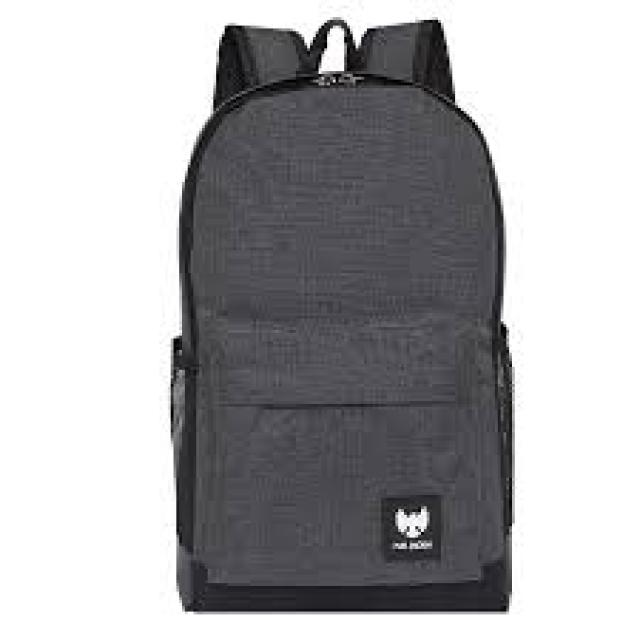backpack: (169, 15, 516, 613)
